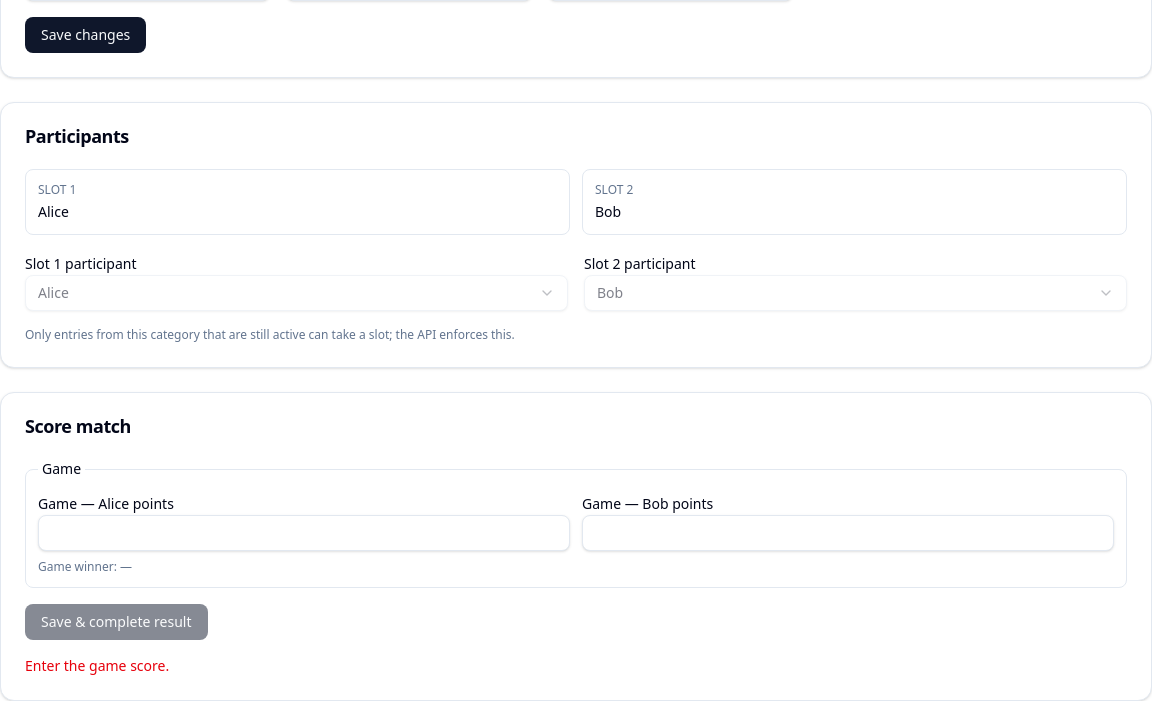
Test: tournament setup flows › surfaces a scoring API error safely
(page scrolled)
Type "21" into the number field labelled "Game — Alice points" at (304, 533), box [38,515,570,551]
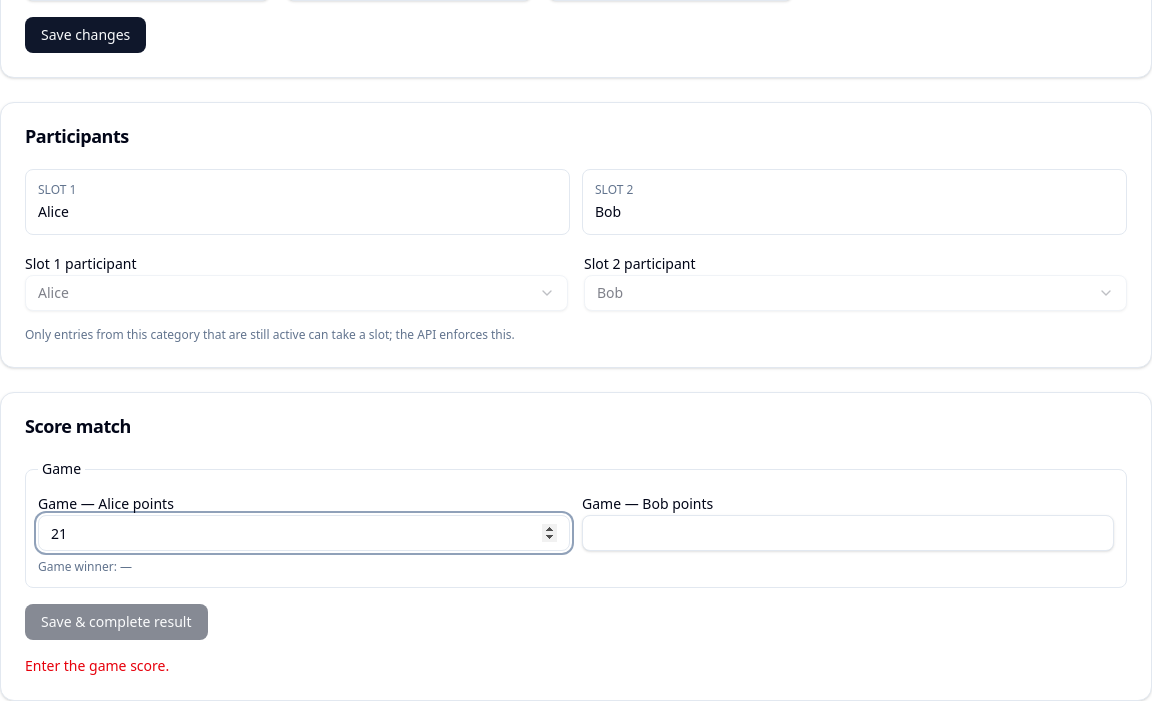
Type "15" into the number field labelled "Game — Bob points" at (848, 533), box [582,515,1114,551]
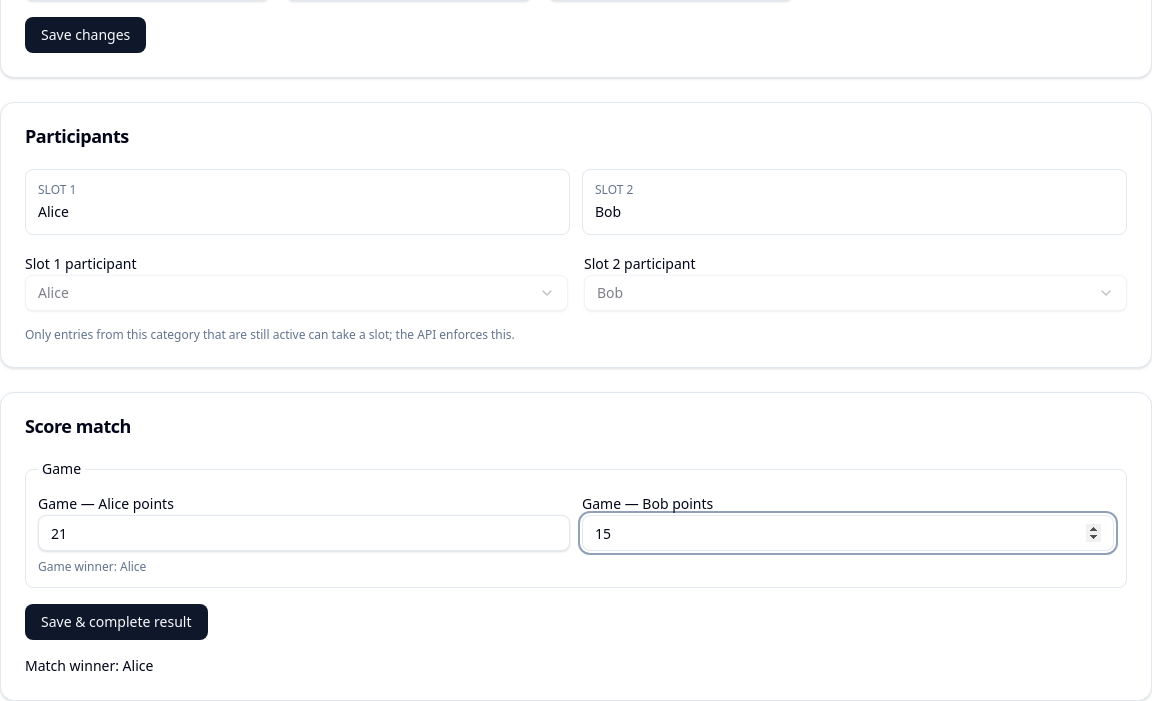
Click the button "Save & complete result" at (116, 622), box [25,604,208,640]
(page scrolled)
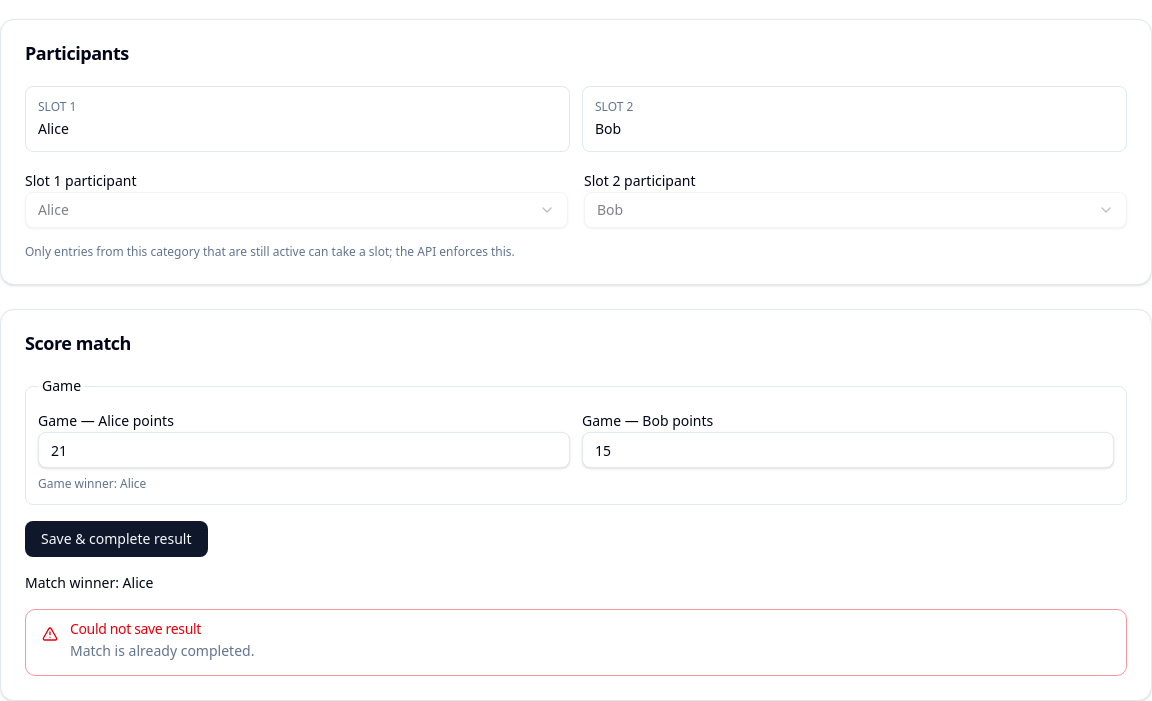
Now the text "Match is already completed." is shown, box [70,641,254,660]
